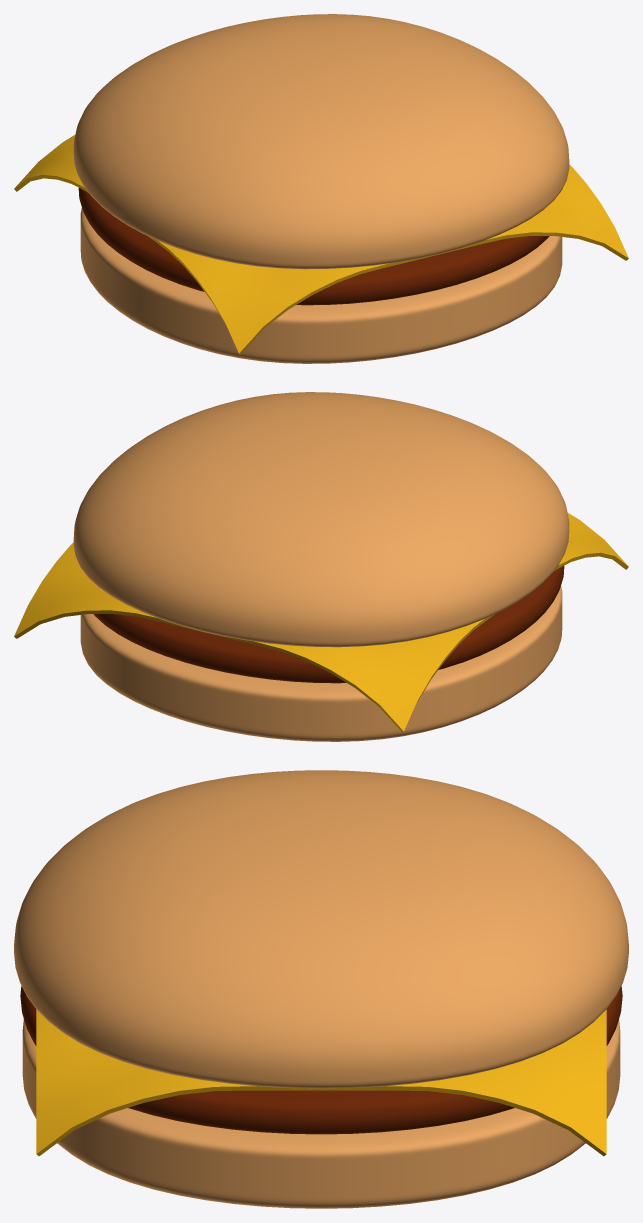
Rendered from hamburger.glb.
3 renders of one model, top to bottom at view 1: azimuth 30°, elevation 25°; view 2: azimuth 150°, elevation 25°; view 3: azimuth 270°, elevation 25°, orthographic. The views are drawn at different scales.
Parts seen in each view (by area): view 1: bun.top, bun.bottom, cheese, patty; view 2: bun.top, bun.bottom, cheese, patty; view 3: bun.top, bun.bottom, cheese, patty.
Boxes of the visible parts, bbox=[...] form: bun.top: bbox=[73, 14, 569, 269]; bun.bottom: bbox=[80, 208, 562, 363]; cheese: bbox=[14, 135, 628, 354]; patty: bbox=[78, 188, 549, 305]; bun.top: bbox=[73, 392, 569, 647]; bun.bottom: bbox=[80, 586, 562, 741]; cheese: bbox=[14, 513, 628, 732]; patty: bbox=[93, 566, 564, 683]; bun.top: bbox=[14, 770, 628, 1088]; bun.bottom: bbox=[22, 1019, 620, 1208]; cheese: bbox=[36, 1009, 606, 1156]; patty: bbox=[20, 986, 622, 1134].
Size of the model in its own units: 9.17 by 4.44 by 9.17.
